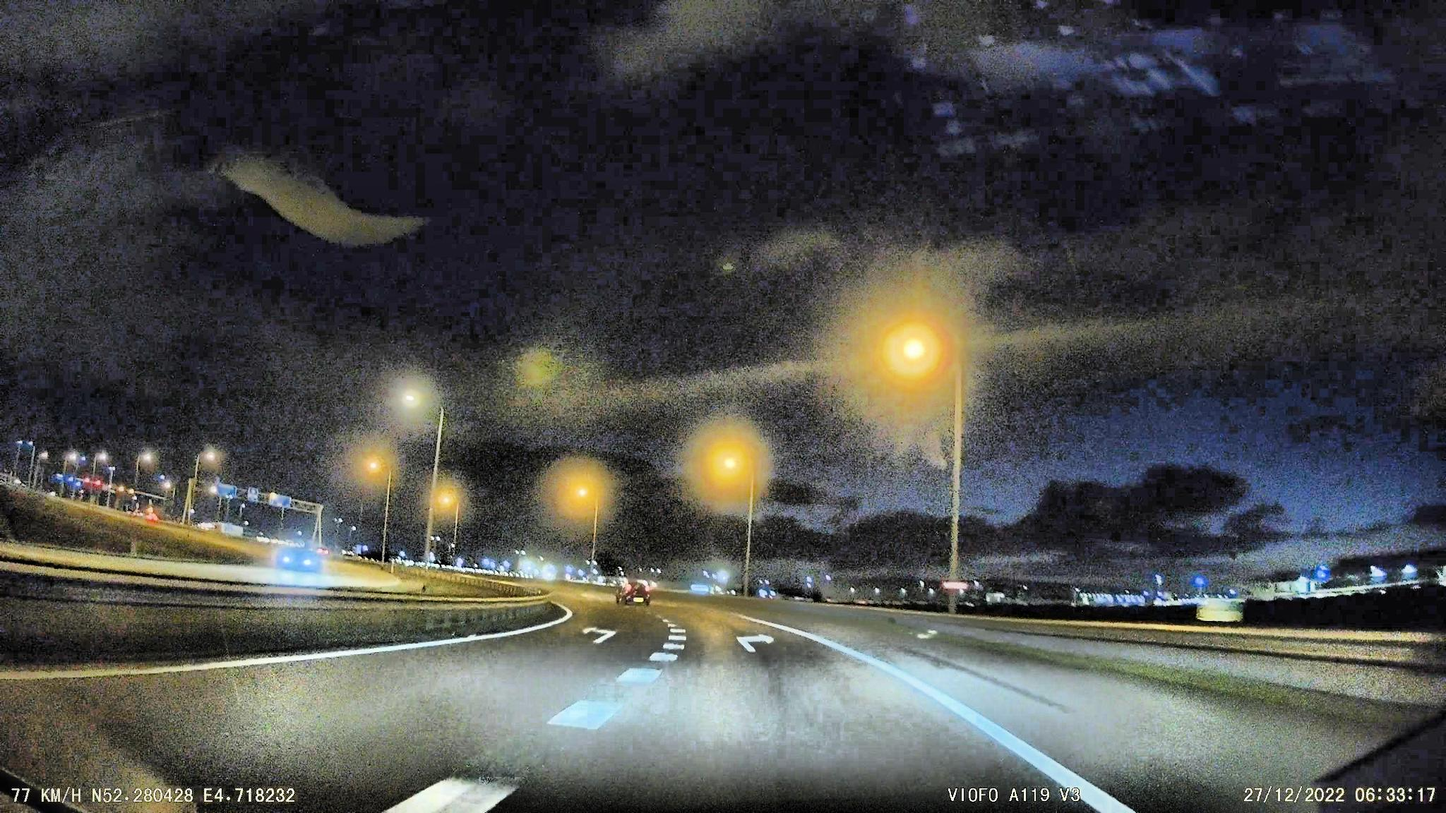Roads: (0, 602, 1387, 813)
